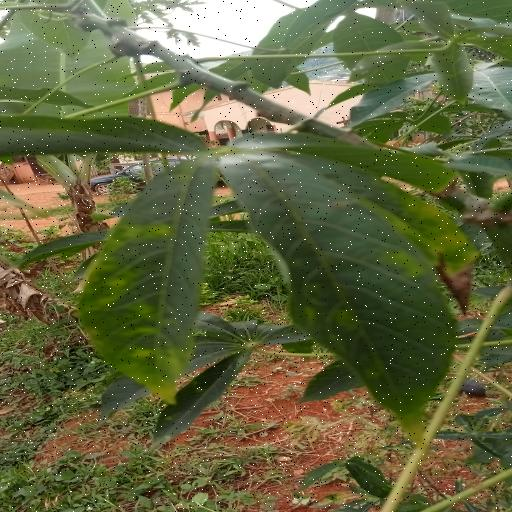Cassava_Root_Rot: (0, 116, 471, 435)
